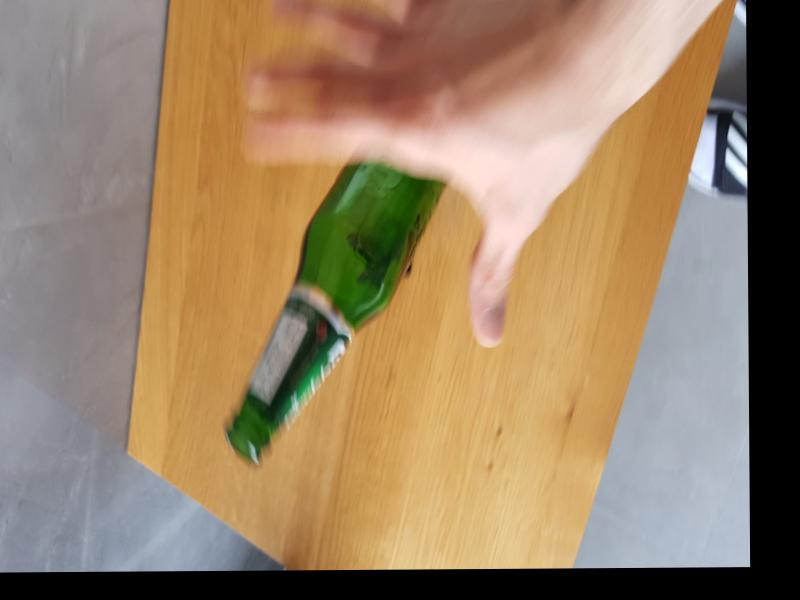Beer: (223, 162, 450, 466)
